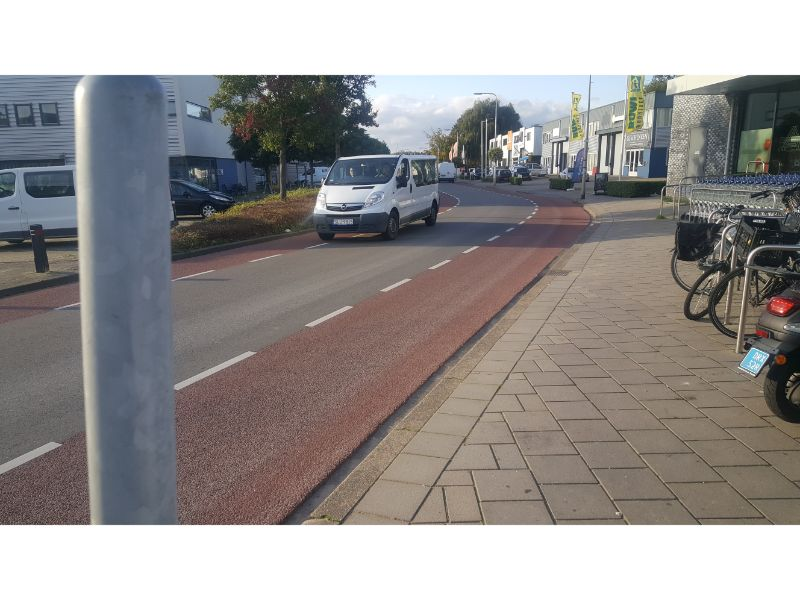kenteken: (329, 217, 356, 227)
